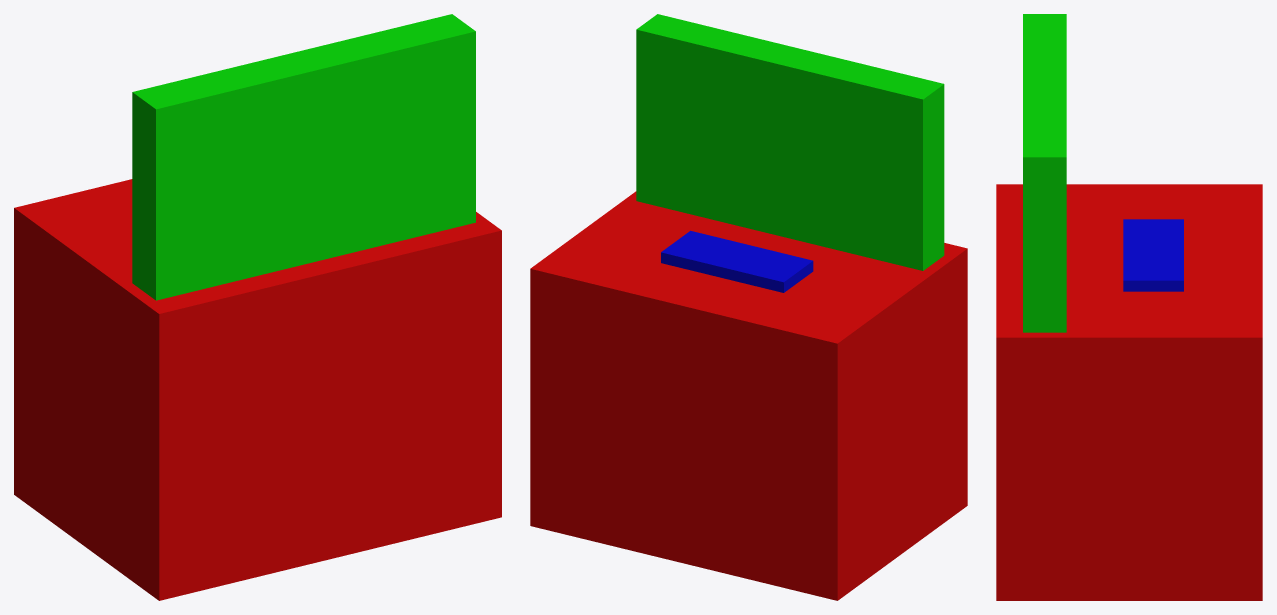
File: SM_DG_Headwear_ProxyCap01.fbx
The picture shows the model from 3 angles, left to right: view 1: azimuth 30°, elevation 25°; view 2: azimuth 150°, elevation 25°; view 3: azimuth 270°, elevation 25°; orthographic projection. The views are drawn at different scales.
Visible parts, largest first — view 1: DG_OUTFIT_SM_DG_Headwear_ProxyCap01; view 2: DG_OUTFIT_SM_DG_Headwear_ProxyCap01; view 3: DG_OUTFIT_SM_DG_Headwear_ProxyCap01.
Part boxes in pixels (x1,y1,x2,y2): DG_OUTFIT_SM_DG_Headwear_ProxyCap01: (14,14,501,600); DG_OUTFIT_SM_DG_Headwear_ProxyCap01: (530,14,967,600); DG_OUTFIT_SM_DG_Headwear_ProxyCap01: (996,14,1262,600).
Size of the model in its own units: 0.15 by 0.11 by 0.2.
